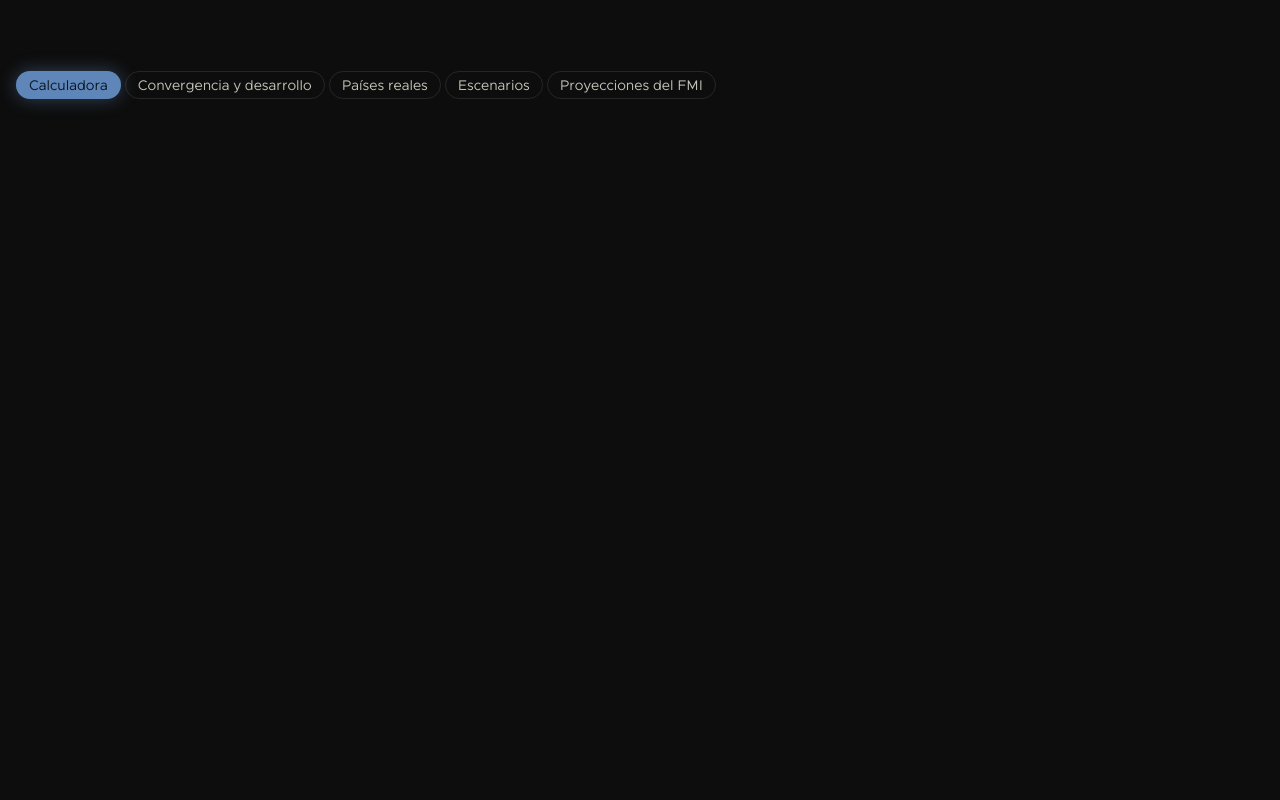
Scenario: the comparison of two rates › opens on 3 % against 10 % for 28 years, from the same level
Click the tab "Escenarios". click: (494, 85)
box: [445,71,543,99]
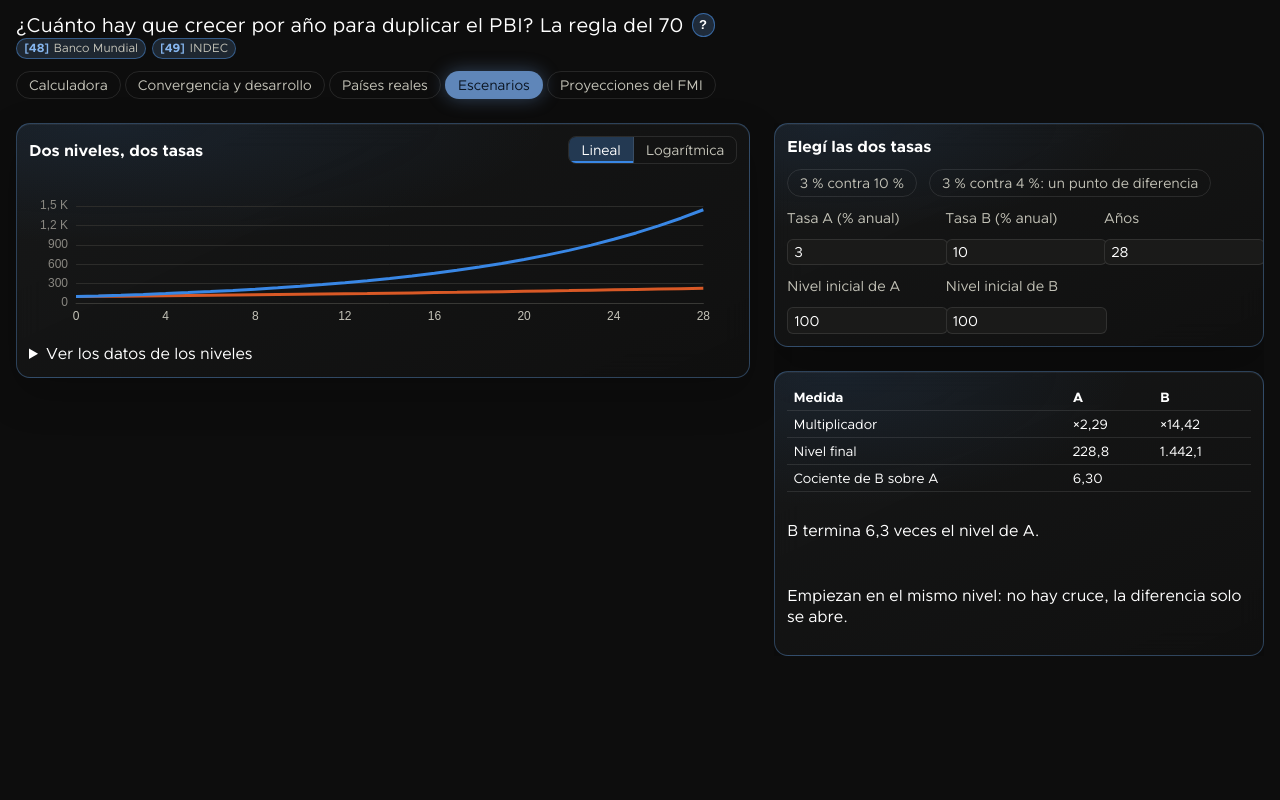
Now the number field labelled "Tasa A (% anual)" holds "3", box [787,239,949,266]
Now the number field labelled "Tasa B (% anual)" holds "10", box [946,239,1107,266]
Now the number field labelled "Años" holds "28", box [1104,239,1264,266]
